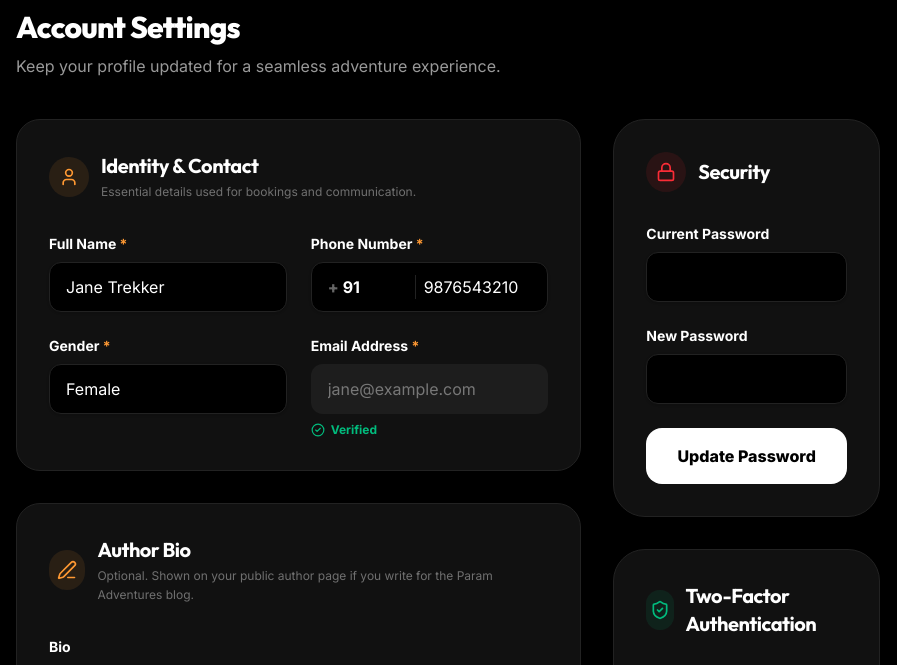
Scenario: app/dashboard/settings/page › shows validation error when new password is too short
Type "old-password" into the password field labelled "Current Password" at (747, 277), box [646,252,847,302]
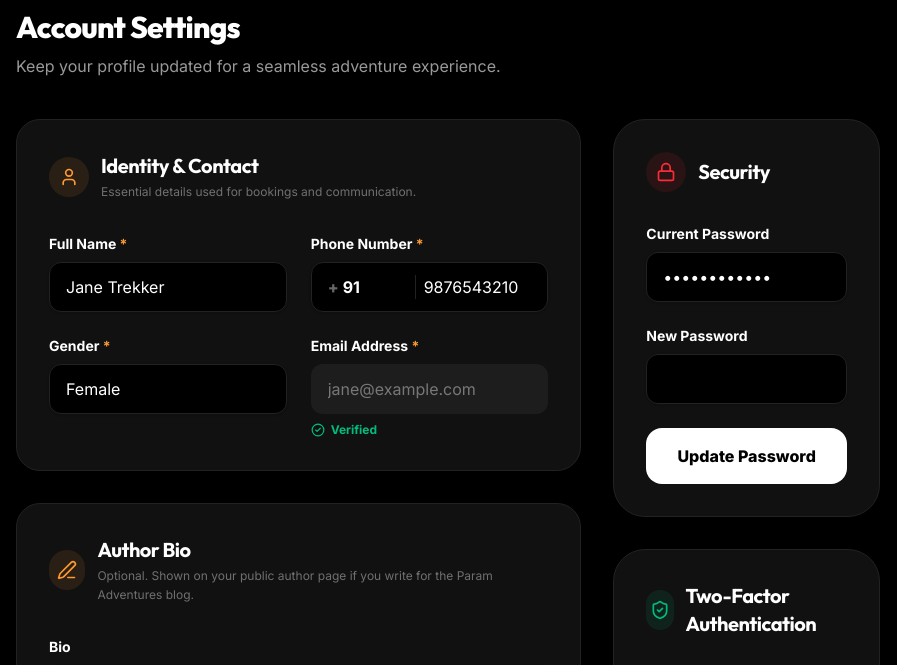
Type "123" into the password field labelled "New Password" at (747, 379), box [646,354,847,404]
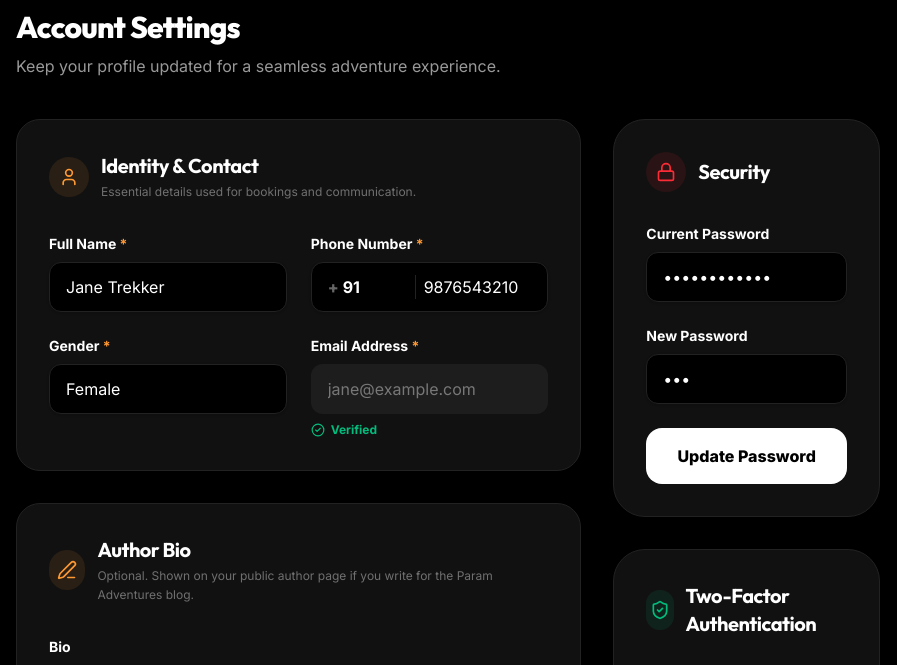
Click the button "Update Password" at (747, 456), box [646,428,847,484]
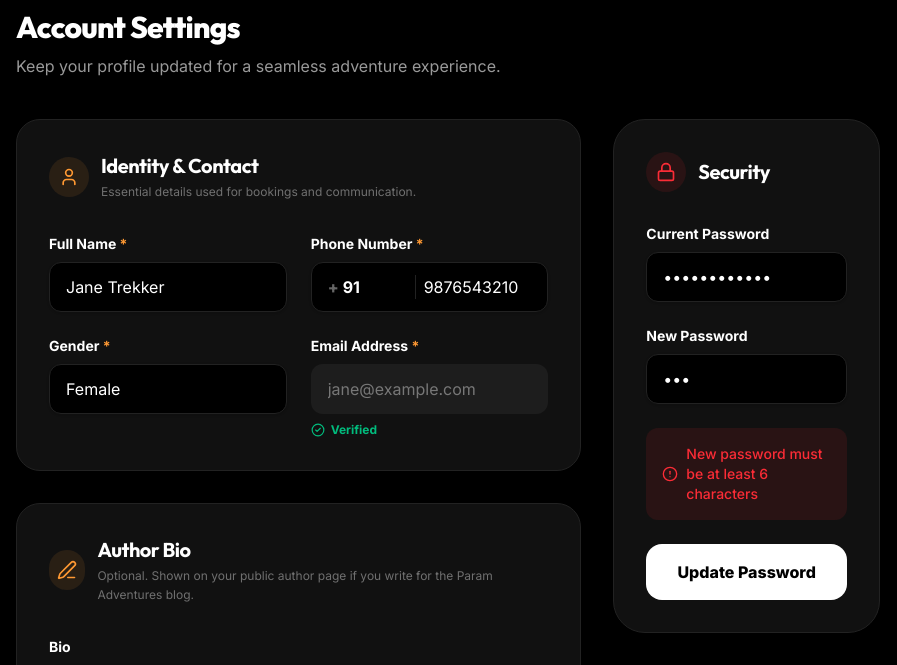
Result: the text "New password must be at least 6 characters" is shown at [646,428,847,520]
